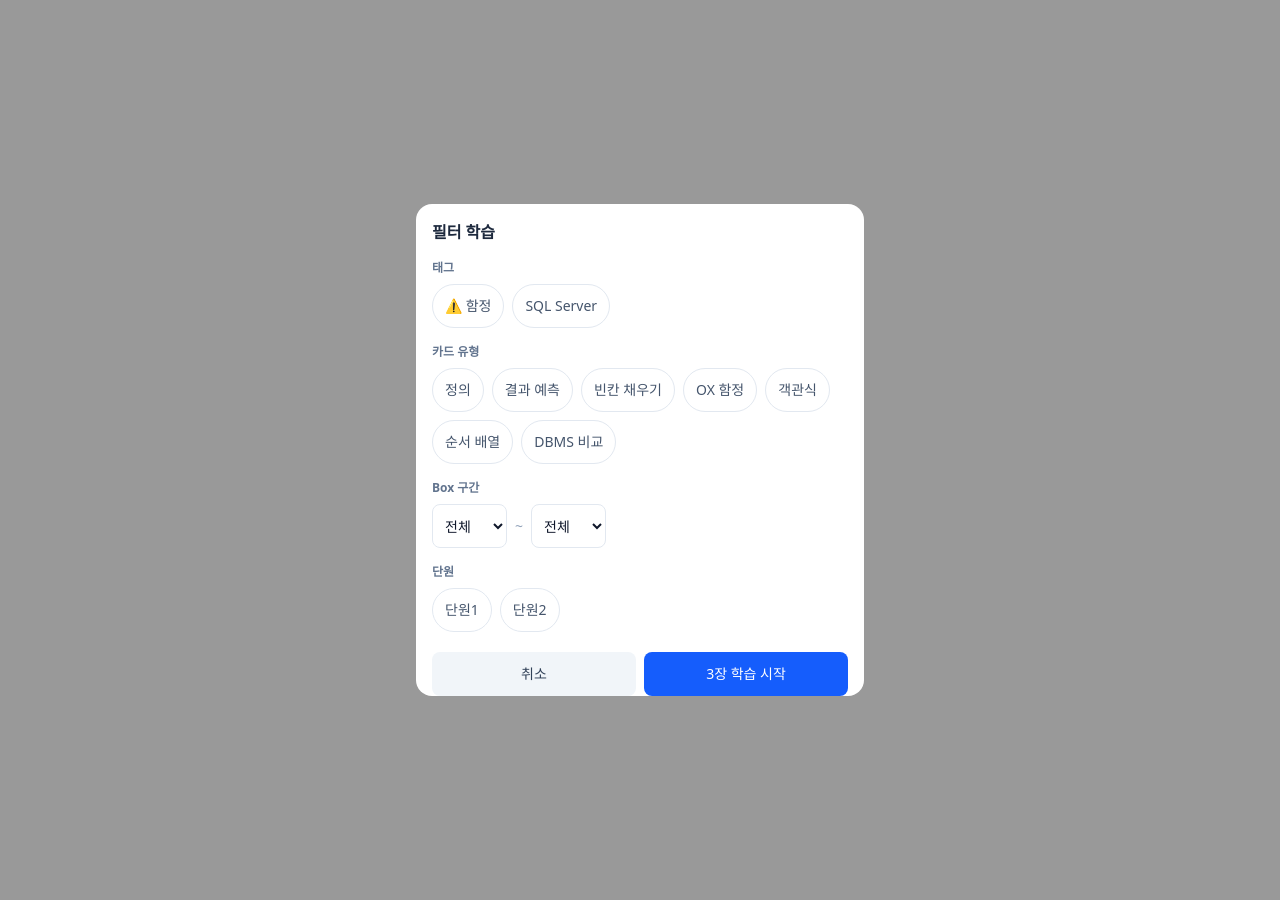
Test: FilterModal › trap 태그를 고르면 해당 카드만으로 수가 줄어든다
The width and height of the screenshot is (1280, 900).
Click the button "⚠️ 함정": (468, 306) x1=432 y1=284 x2=504 y2=328
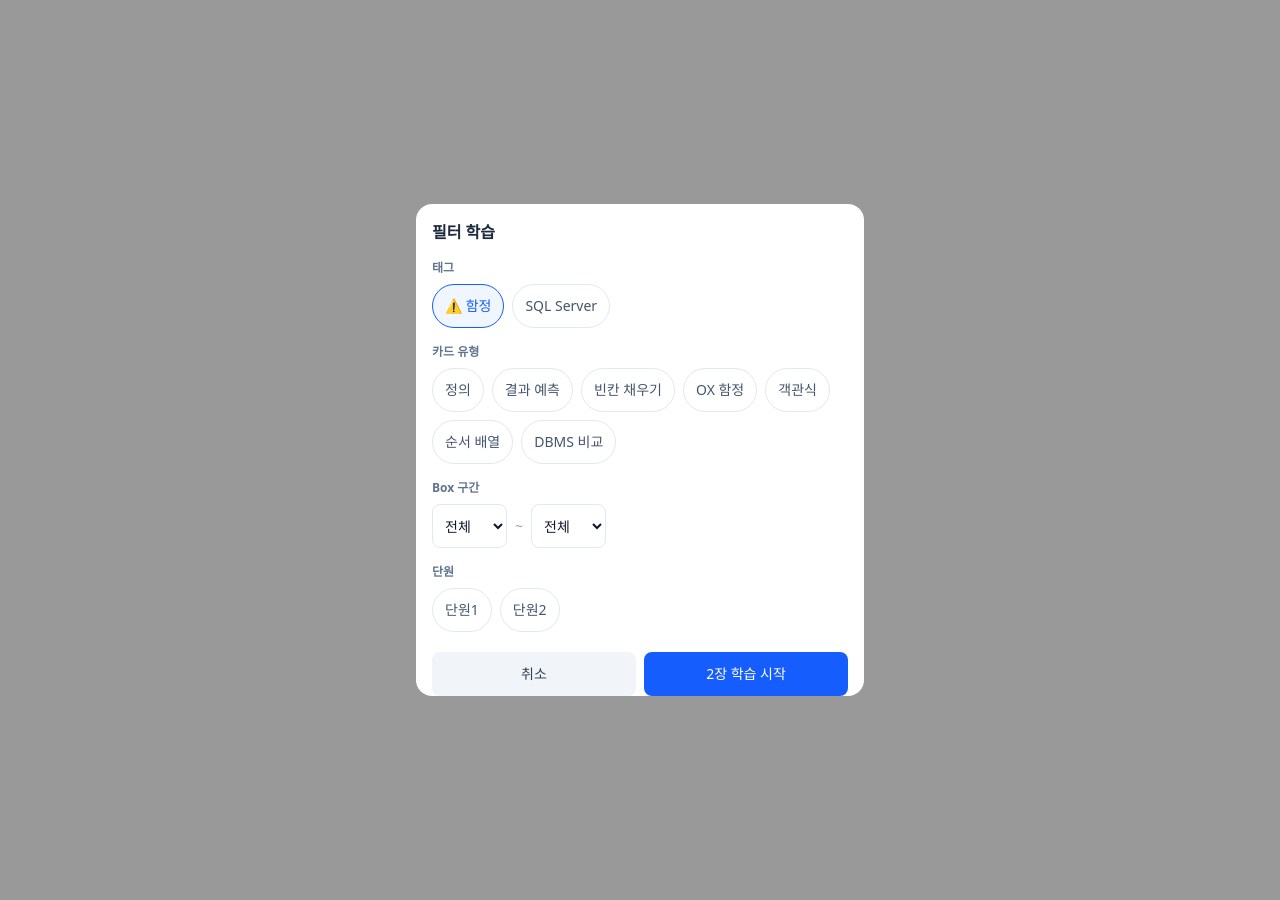
Now the button "2장 학습 시작" is shown, box x1=644 y1=652 x2=848 y2=696
